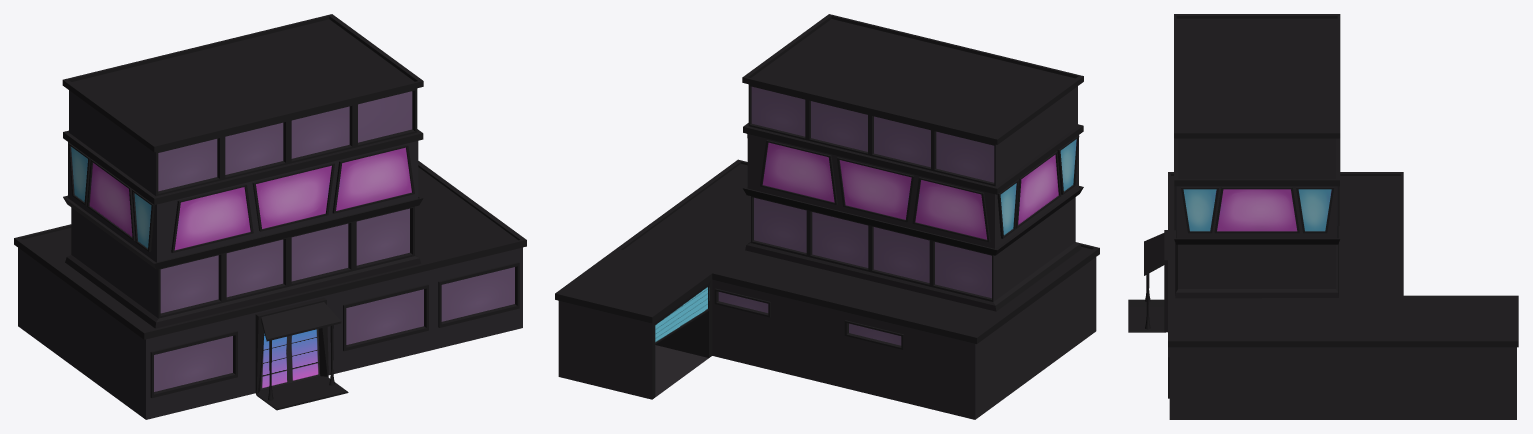
The model's file is building_02.fbx.
3 renders of one model, left to right at view 1: azimuth 30°, elevation 25°; view 2: azimuth 150°, elevation 25°; view 3: azimuth 270°, elevation 25°, orthographic. The views are drawn at different scales.
Visible parts, largest first — view 1: pCylinder4; view 2: pCylinder4; view 3: pCylinder4.
Boxes of the visible parts, x1,y1,x2,y2 form: pCylinder4: (14,14,526,419); pCylinder4: (555,14,1099,419); pCylinder4: (1128,14,1518,419).
Bounding box in the file's own units: 133 × 89.12 × 129.
1 material, 1 textured.
